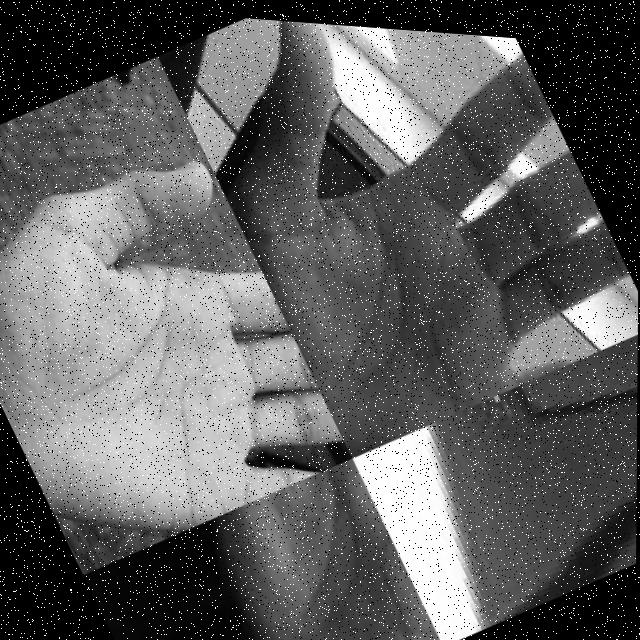hand: (154, 9, 640, 468), (0, 118, 354, 588), (161, 441, 445, 640), (415, 427, 638, 640)
